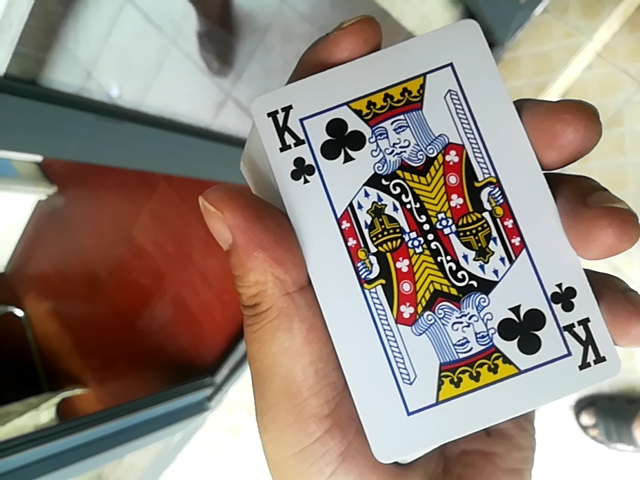mh k: (205, 4, 627, 473)
